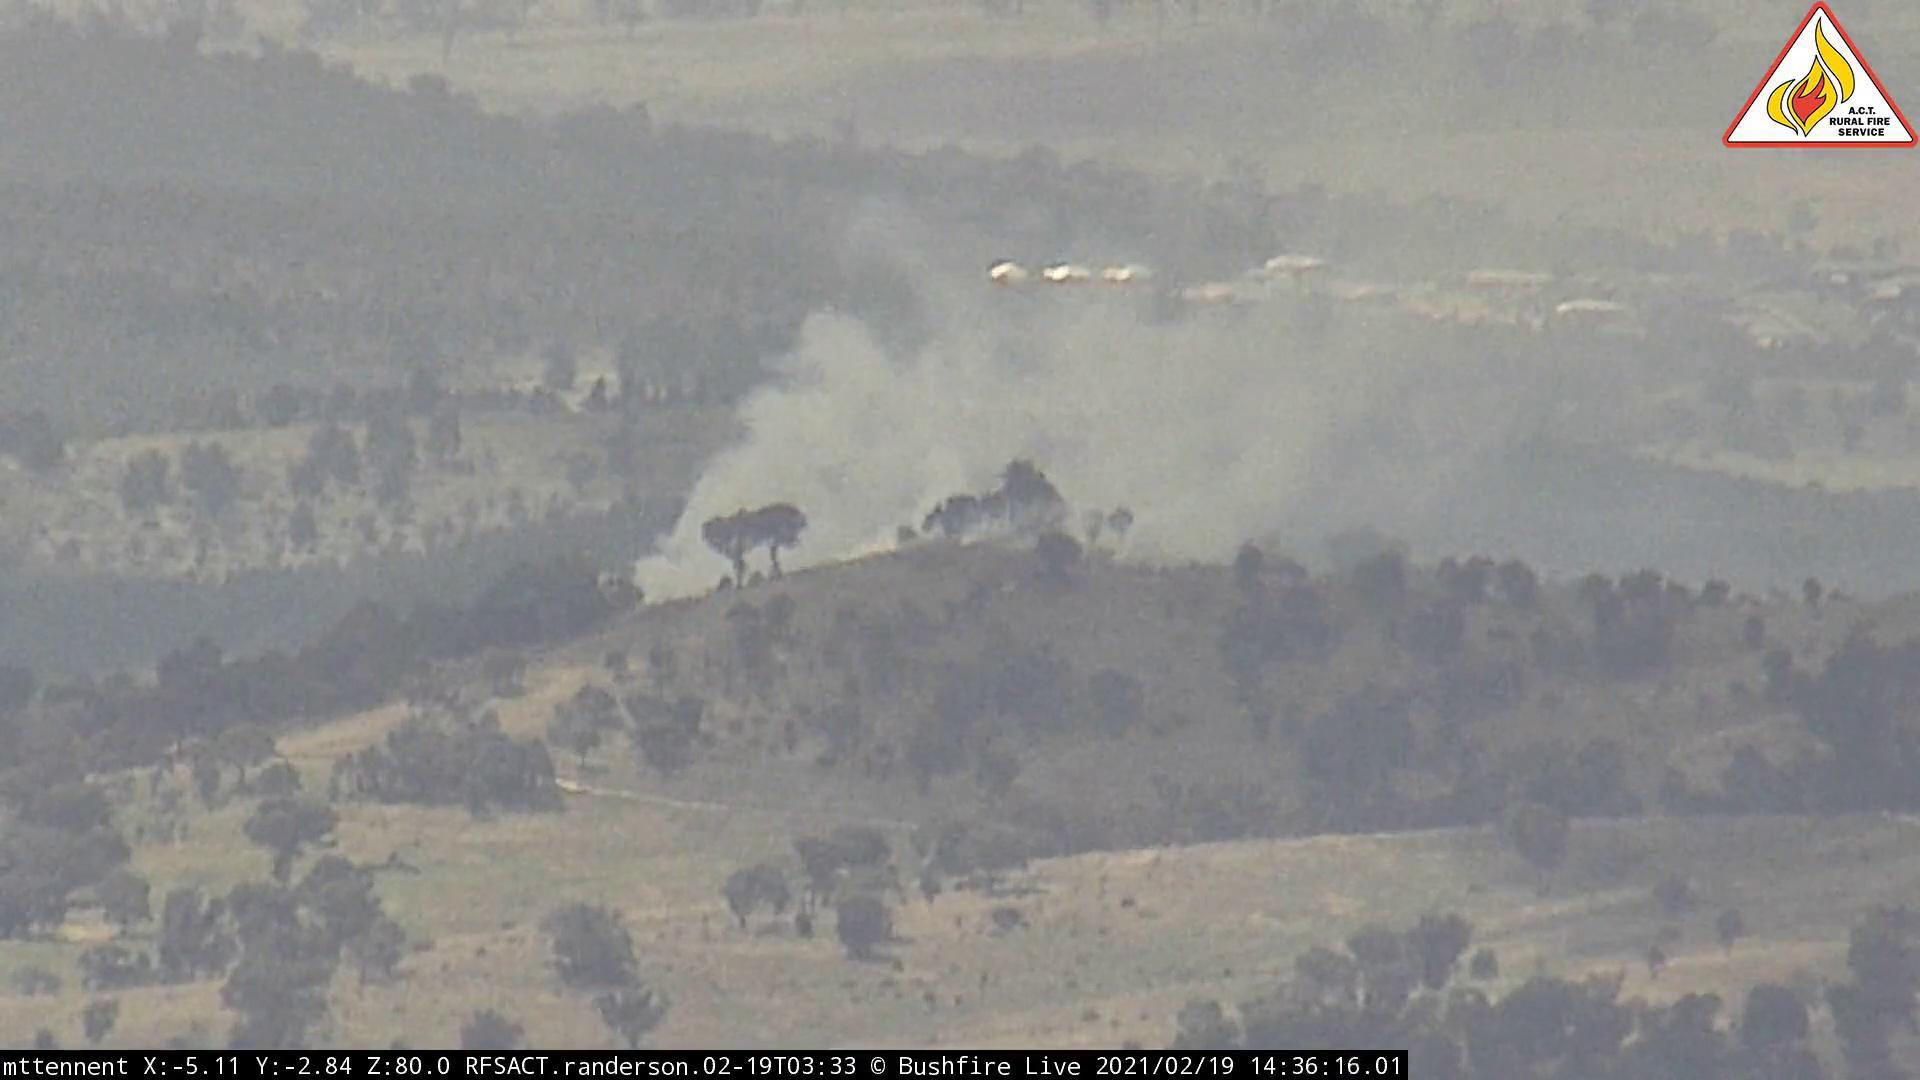Smoke: (589, 121, 1535, 636)
